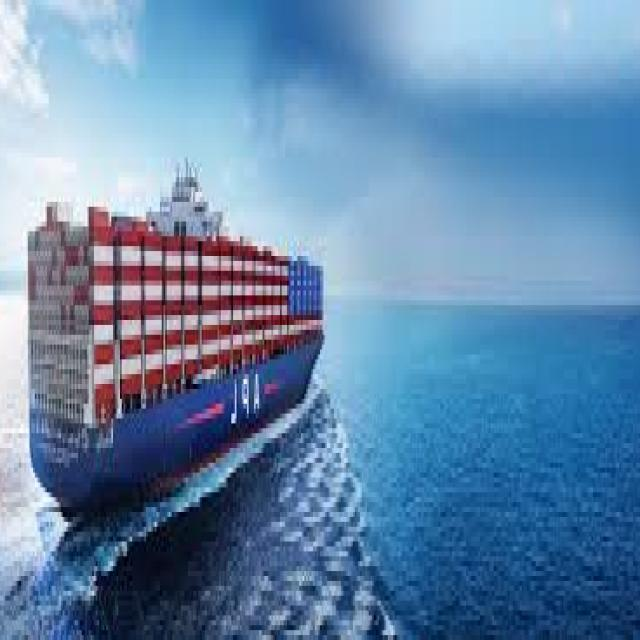cargoship: (24, 152, 331, 512)
